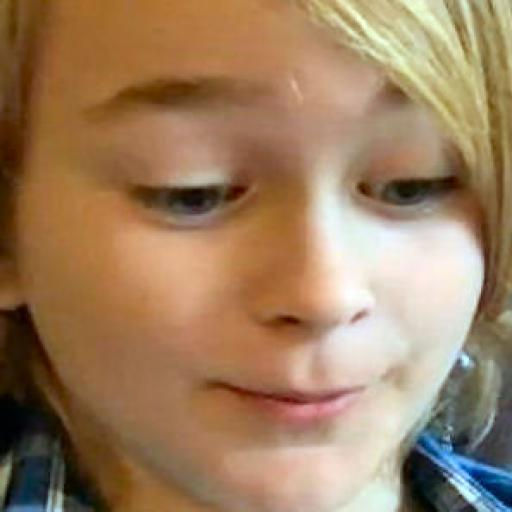Autism: (11, 5, 496, 495)
